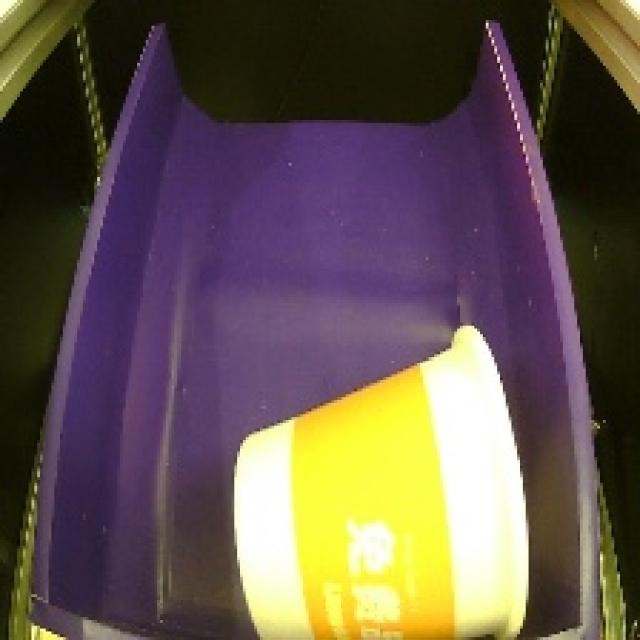cups: (220, 305, 543, 640)
